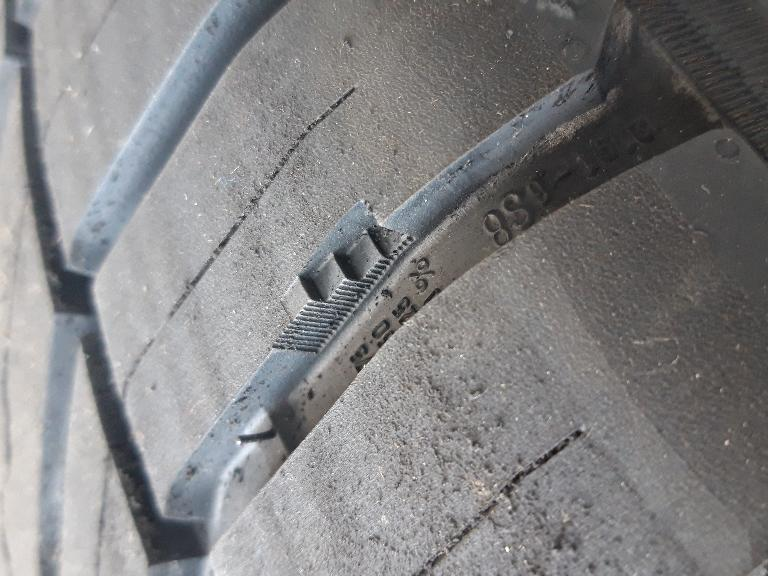temoin:75: (276, 196, 422, 333)
